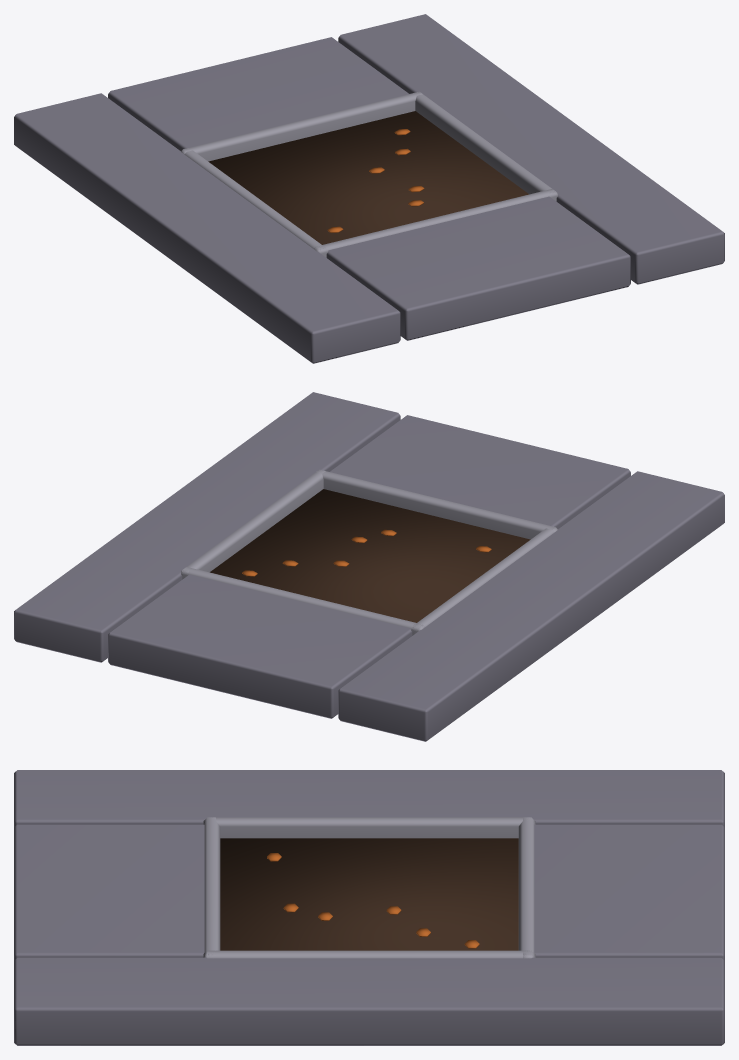
File: tree_pit.glb
3 renders of one model, top to bottom at view 1: azimuth 30°, elevation 25°; view 2: azimuth 150°, elevation 25°; view 3: azimuth 270°, elevation 25°, orthographic. The views are drawn at different scales.
Visible parts, largest first — view 1: tree_pit; view 2: tree_pit; view 3: tree_pit.
Boxes of the visible parts, bbox=[...] form: tree_pit: bbox=[14, 14, 724, 363]; tree_pit: bbox=[14, 392, 724, 741]; tree_pit: bbox=[14, 770, 724, 1045].
Size of the model in its own units: 1.98 by 0.16 by 2.48.
